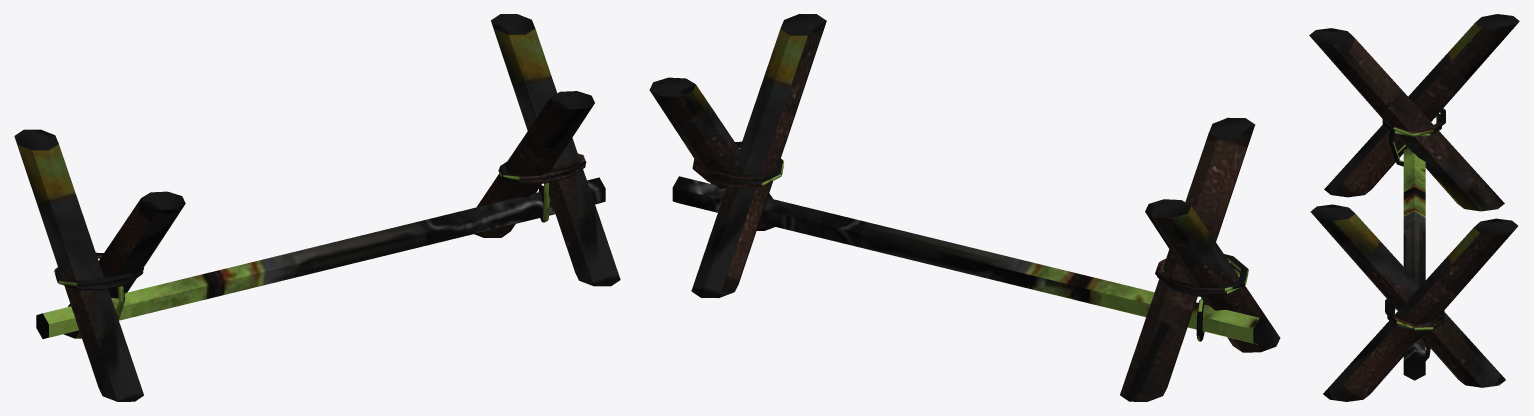
Rendered from stalka.glb.
The picture shows the model from 3 angles, left to right: view 1: azimuth 30°, elevation 25°; view 2: azimuth 150°, elevation 25°; view 3: azimuth 270°, elevation 25°; orthographic projection. The views are drawn at different scales.
Visible parts, largest first — view 1: Stand_1_aiStandardSurface6_0; view 2: Stand_1_aiStandardSurface6_0; view 3: Stand_1_aiStandardSurface6_0.
Part boxes in pixels (box(x1,y1,x2,y2)): Stand_1_aiStandardSurface6_0: box(14, 14, 620, 401); Stand_1_aiStandardSurface6_0: box(649, 14, 1280, 401); Stand_1_aiStandardSurface6_0: box(1309, 14, 1519, 401).
Bounding box in the file's own units: 174 × 56.93 × 64.62.
Materials: 1 (1 with a texture image).
